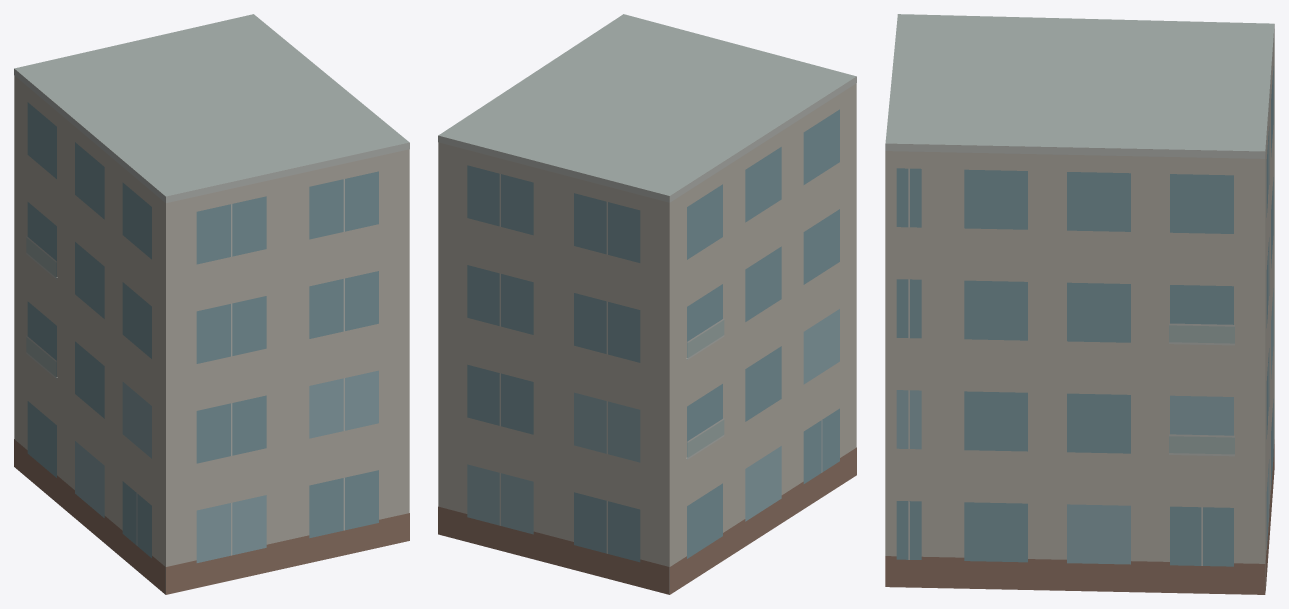
The model's file is survey-upis-32804979.glb.
3 renders of one model, left to right at view 1: azimuth 30°, elevation 25°; view 2: azimuth 150°, elevation 25°; view 3: azimuth 270°, elevation 25°, orthographic. The views are drawn at different scales.
Parts seen in each view (by area): view 1: survey-upis-32804979.tmp; view 2: survey-upis-32804979.tmp; view 3: survey-upis-32804979.tmp.
Boxes of the visible parts, left/top/right/bottom form: survey-upis-32804979.tmp: left=14, top=14, right=409, bottom=594; survey-upis-32804979.tmp: left=438, top=14, right=856, bottom=594; survey-upis-32804979.tmp: left=885, top=14, right=1274, bottom=594.
Bounding box in the file's own units: 9.65 × 14.5 × 11.54.
